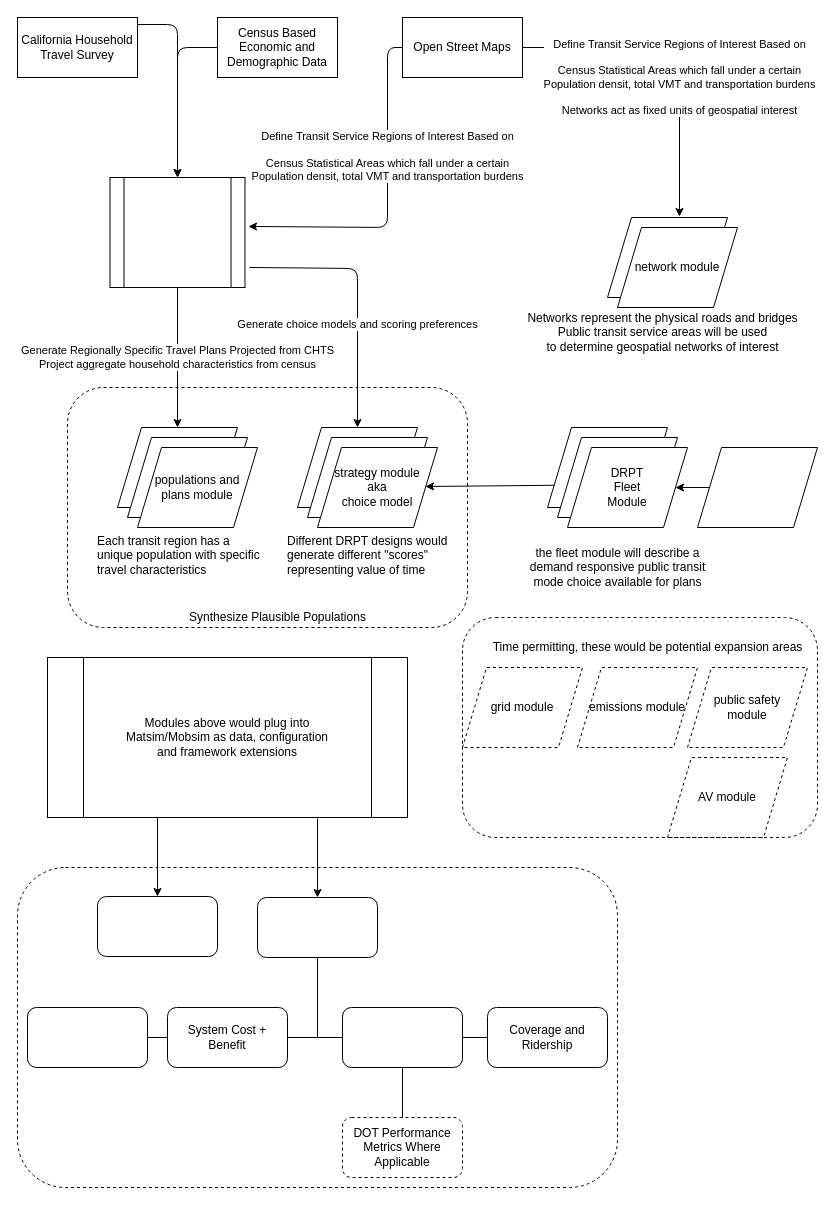
This 835x1205 diagram has some shape labels left out. The shapes that lost their labels are listed below. From the top down, each one's centre as x and y in pixels, then its label:
the point at 177,232: Population Synthesizer
the point at 757,487: cost module
the point at 157,926: Aggregate VMT
the point at 317,927: Performance Characteristics from DRPT System
the point at 87,1037: Population Cost + Benefit
the point at 402,1037: Level of Service
